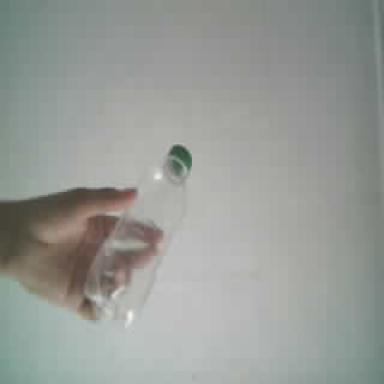bottle: (83, 146, 191, 325)
